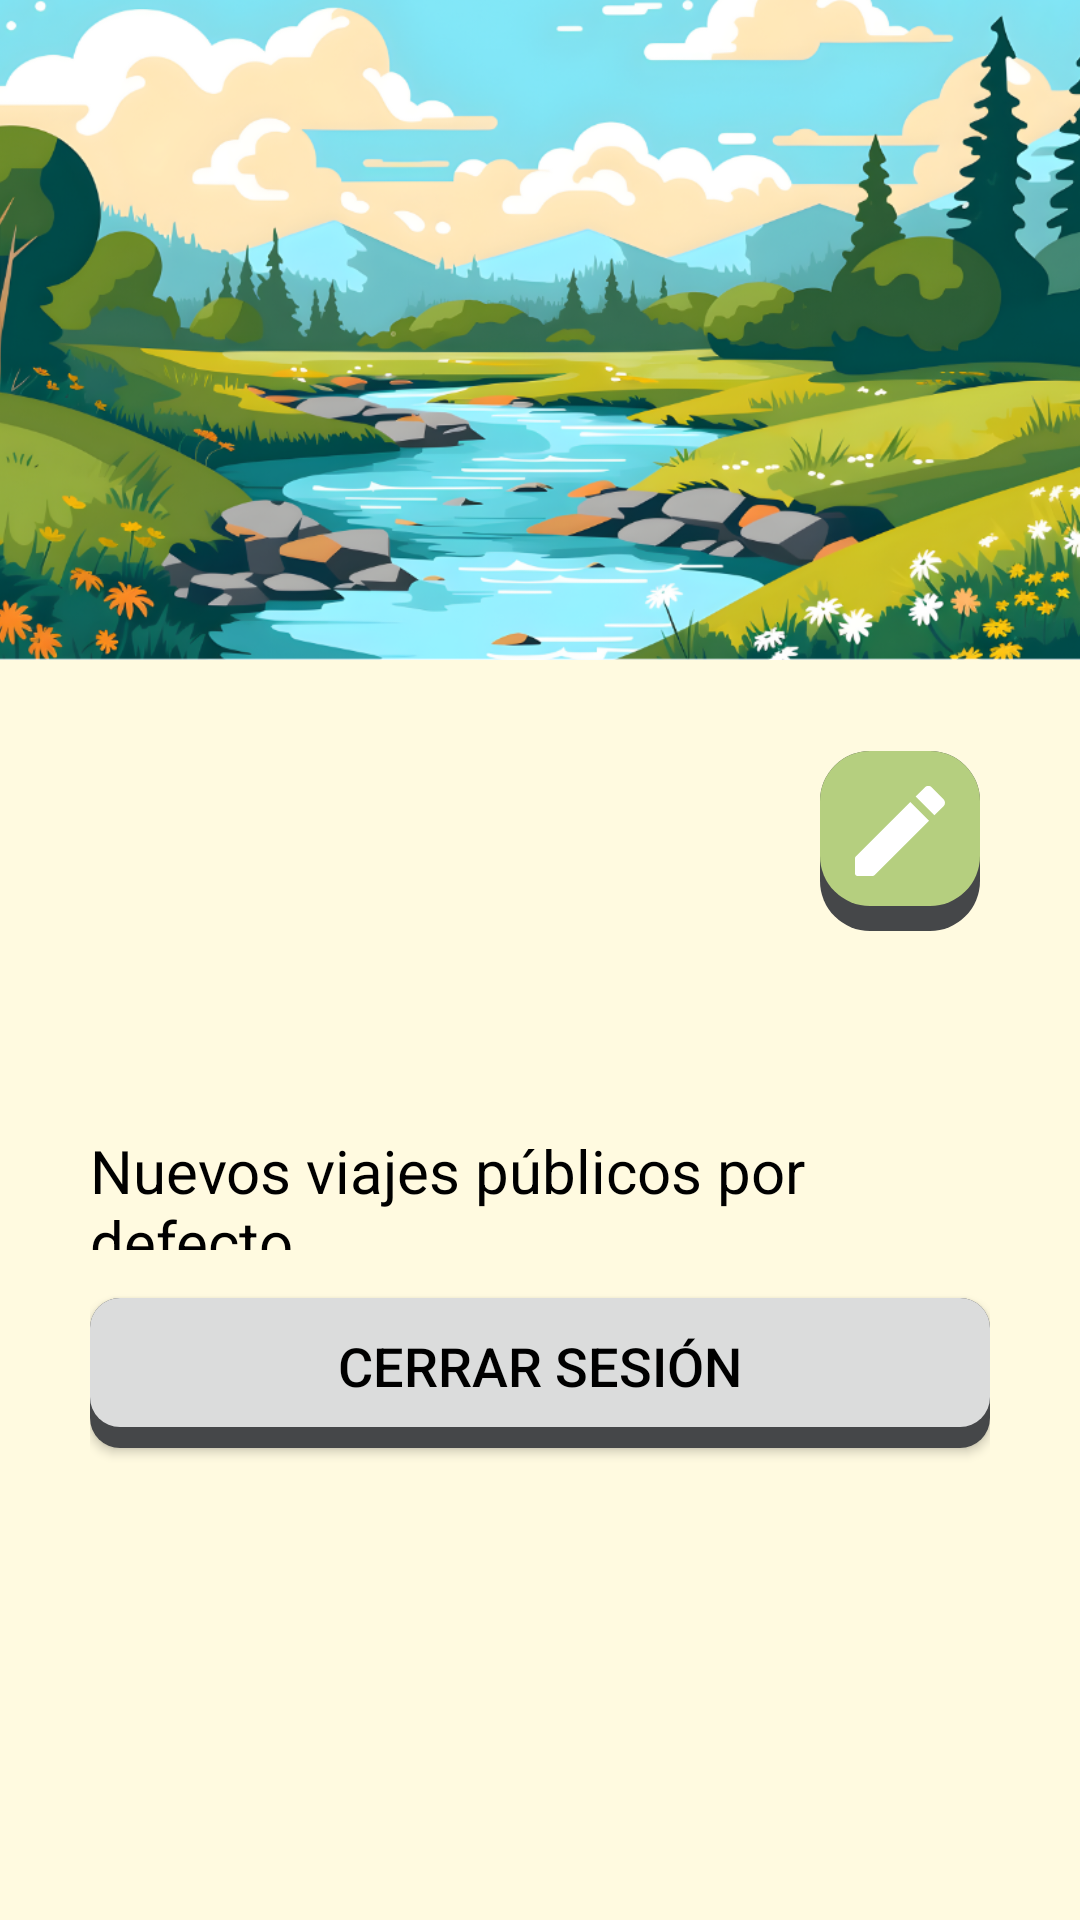

Named icons in this screenshot (1080 × 1920) and their centers, [x,y]:
edit: [900,841]
